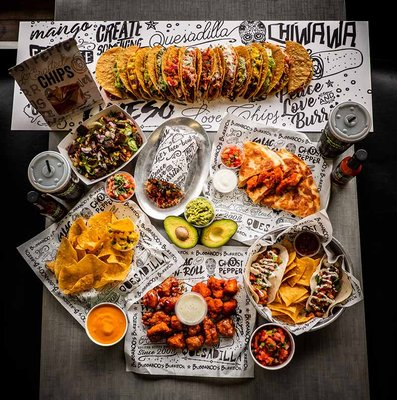sushi: (243, 212, 361, 336), (133, 115, 210, 221), (249, 324, 296, 371), (27, 150, 72, 194), (85, 302, 128, 347), (105, 171, 136, 203)
